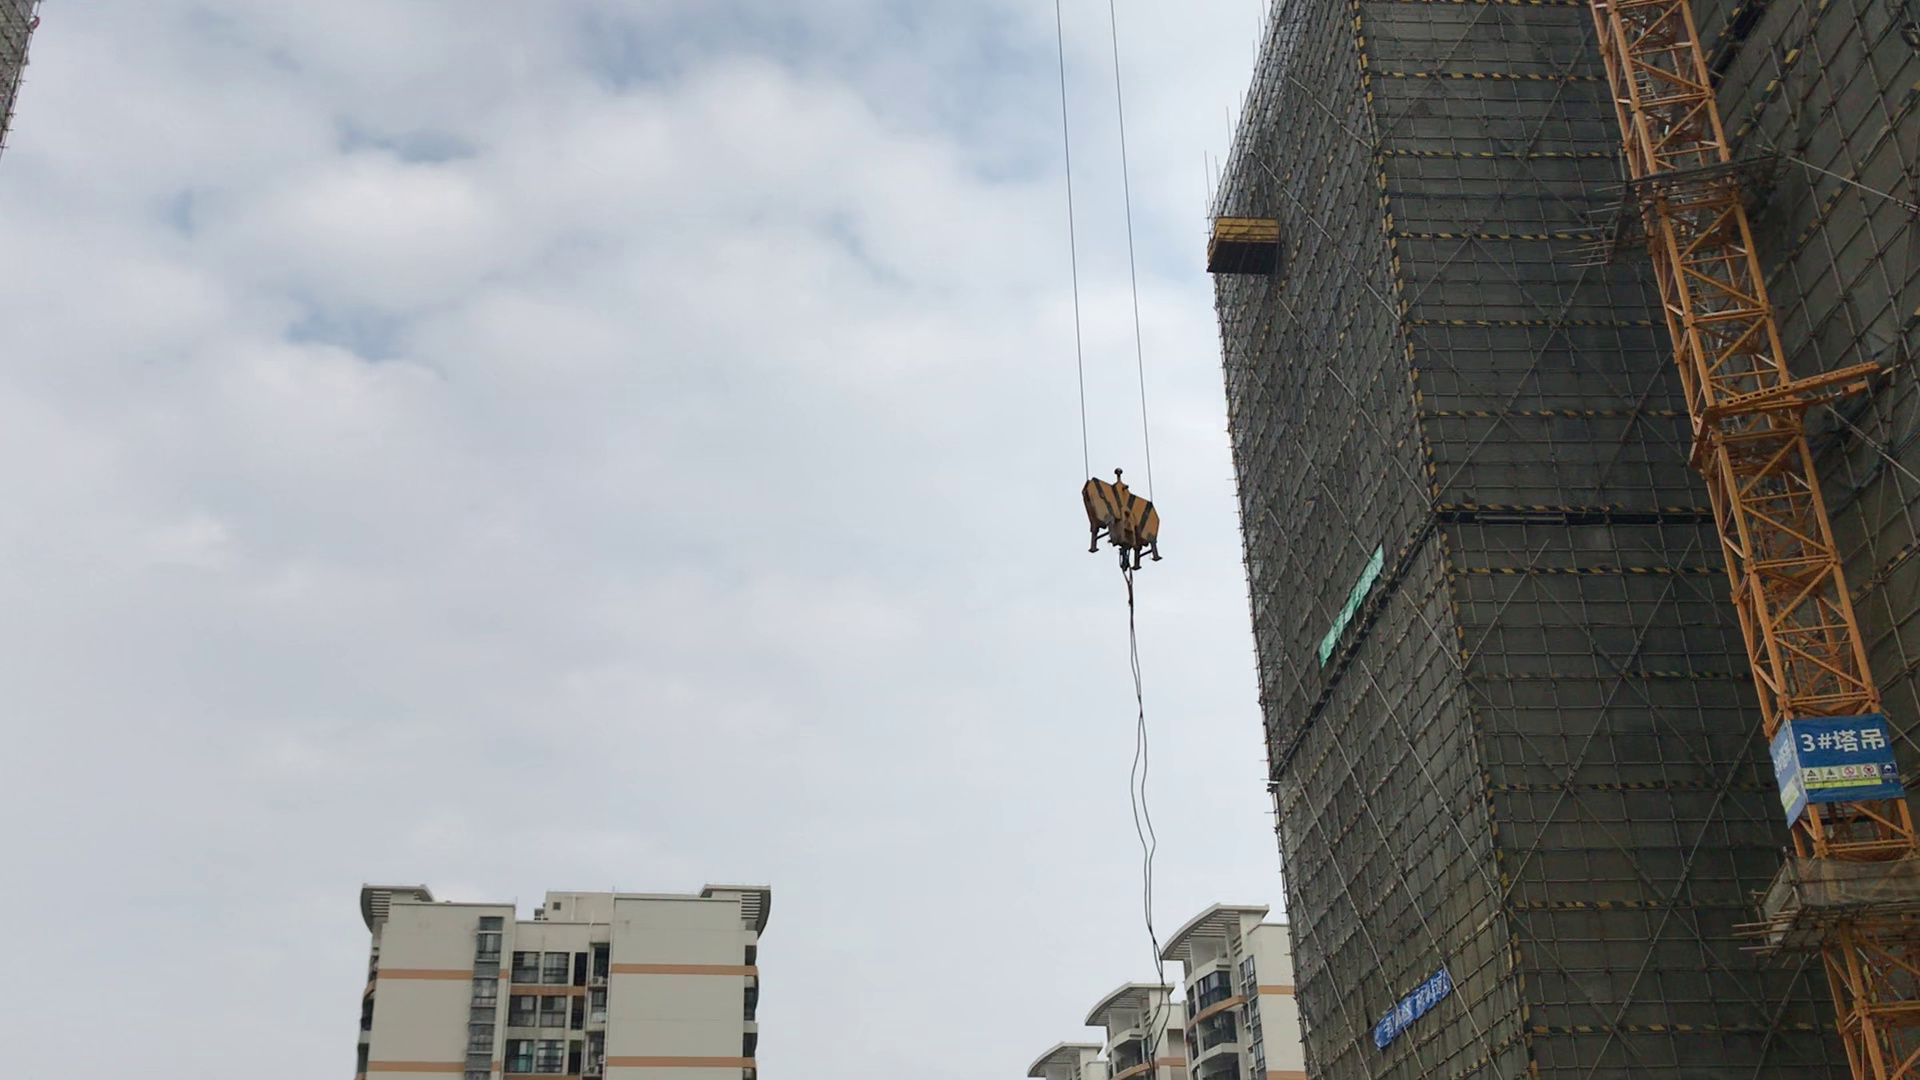hook: (1058, 460, 1176, 572)
slogan: (1319, 542, 1387, 667), (1375, 972, 1449, 1046)
